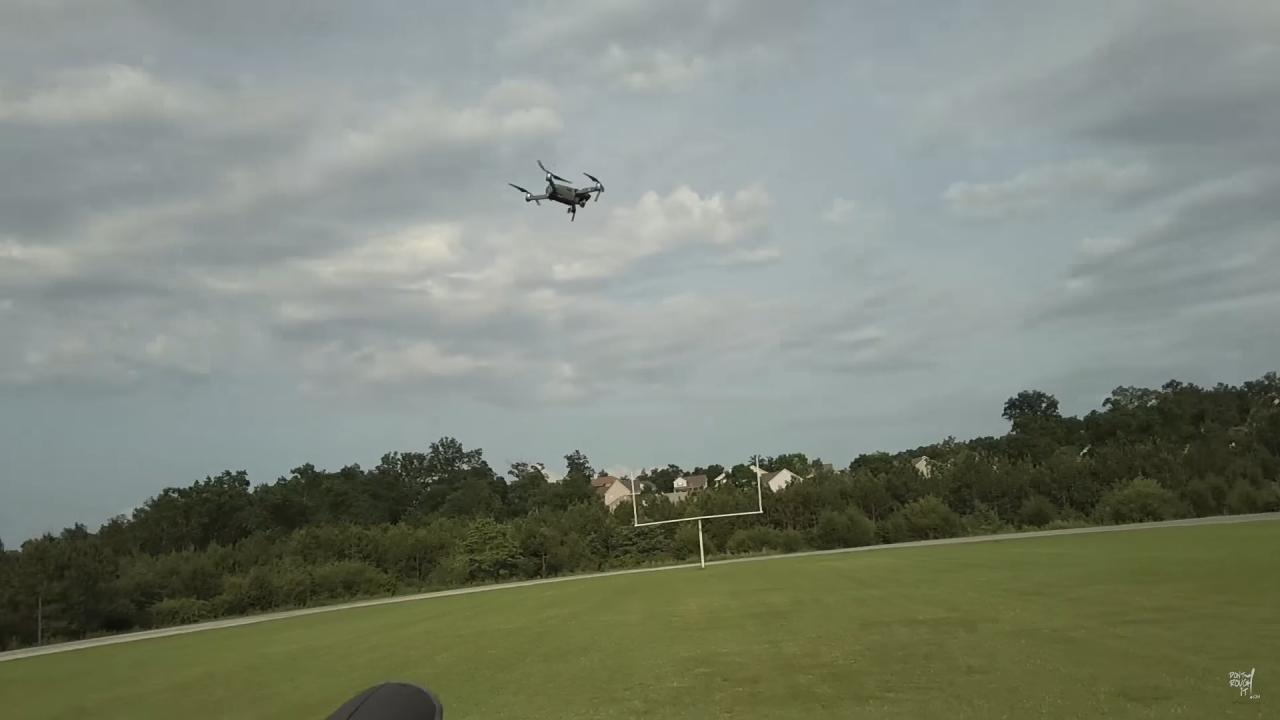Drone: (498, 153, 610, 232)
